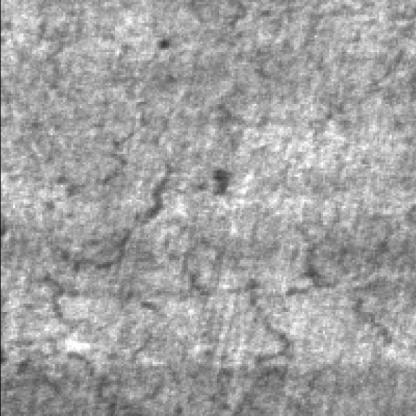crazing: (36, 116, 174, 412), (181, 225, 339, 391)
